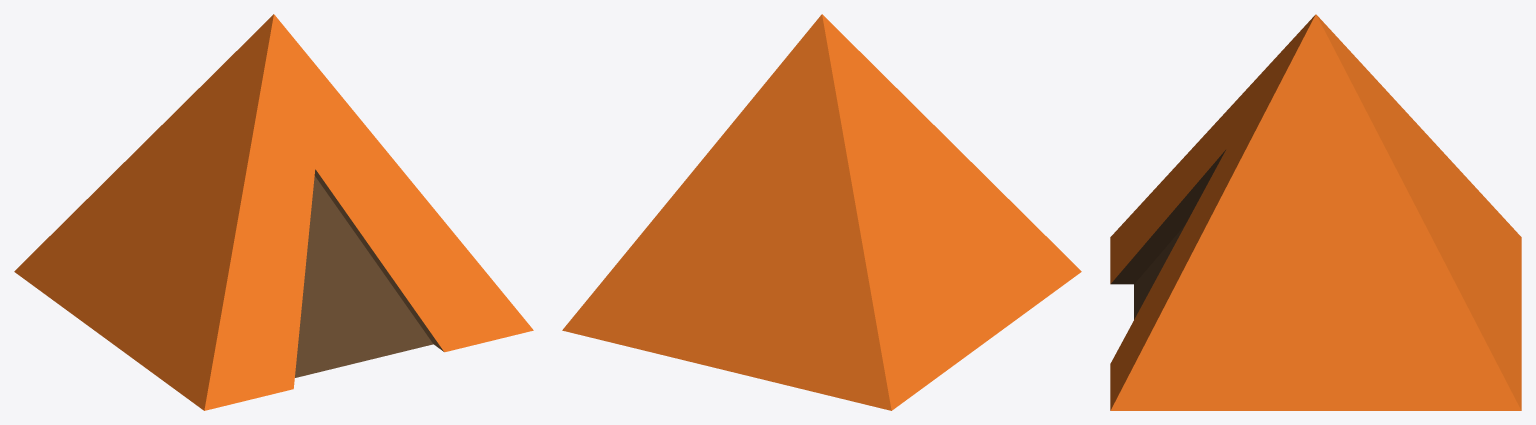
The model's file is tent-pyramid_orange.glb.
3 views of the same model, side by side, from view 1: azimuth 30°, elevation 25°; view 2: azimuth 150°, elevation 25°; view 3: azimuth 270°, elevation 25° (orthographic). The views are drawn at different scales.
Visible parts, largest first — view 1: tent-pyramid_orange; view 2: tent-pyramid_orange; view 3: tent-pyramid_orange.
Boxes of the visible parts, bbox=[...] form: tent-pyramid_orange: bbox=[14, 14, 533, 410]; tent-pyramid_orange: bbox=[562, 14, 1081, 410]; tent-pyramid_orange: bbox=[1110, 14, 1521, 410].
Size of the model in its own units: 2.63 by 2.19 by 2.63.
Materials: 1 (1 with a texture image).
